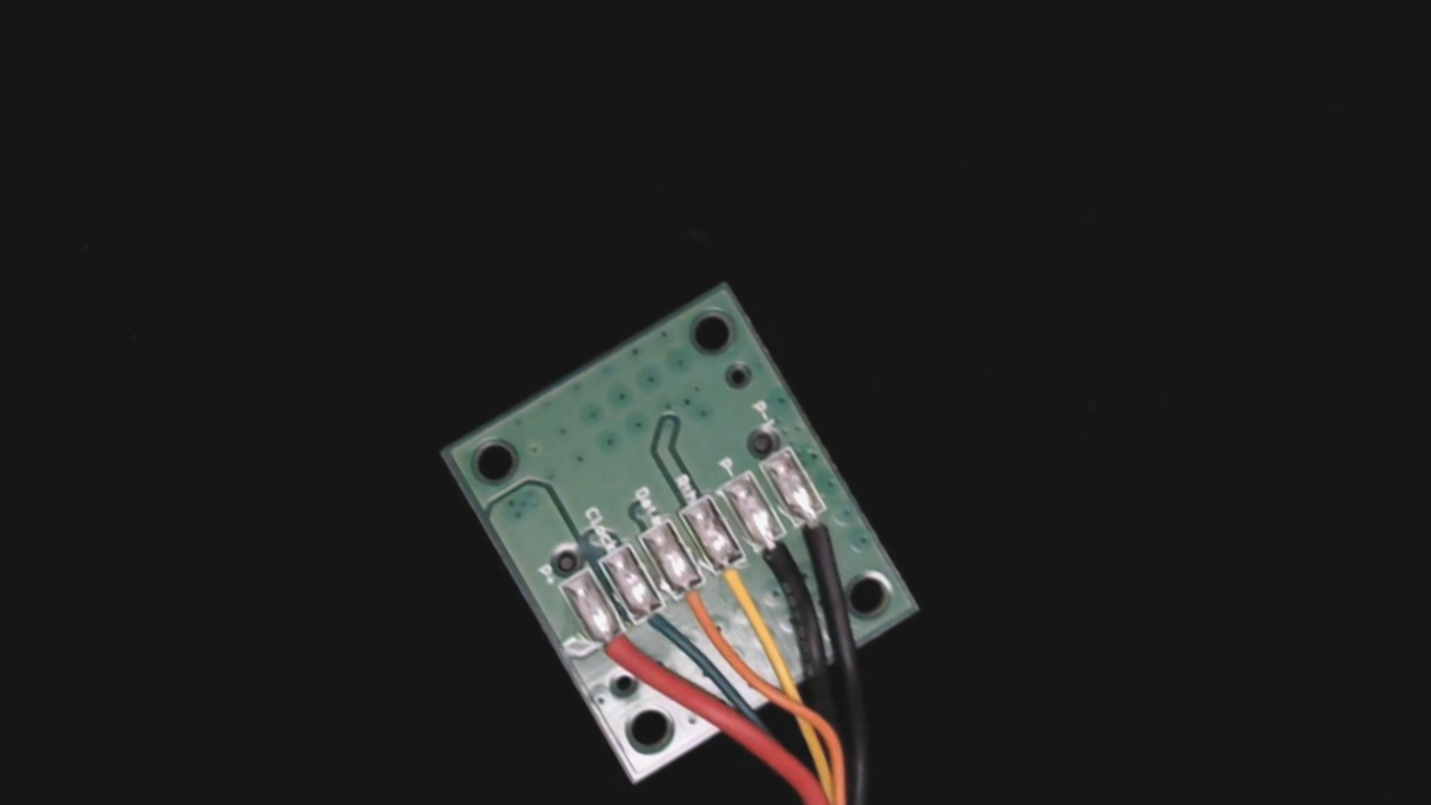Black: (737, 513, 825, 611)
Black1: (781, 486, 864, 577)
Green: (618, 583, 691, 663)
Orange: (657, 558, 739, 648)
Red: (578, 607, 663, 701)
Yellow: (697, 537, 786, 636)
